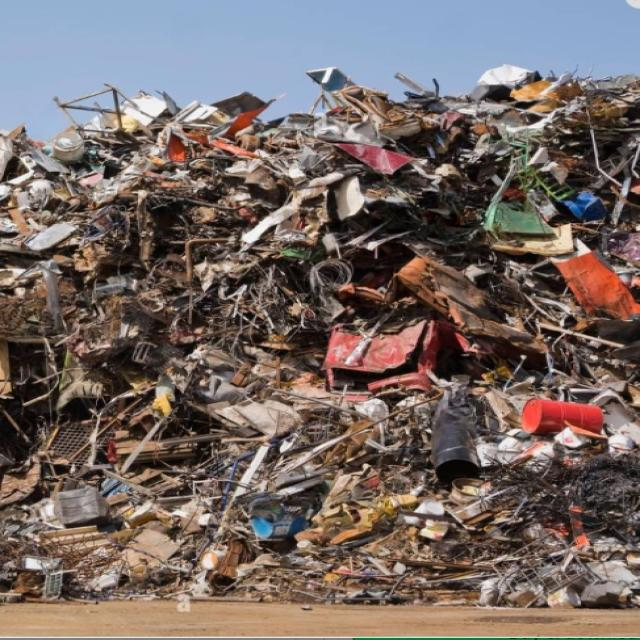Canisters: (432, 423, 482, 488), (521, 399, 605, 436)
